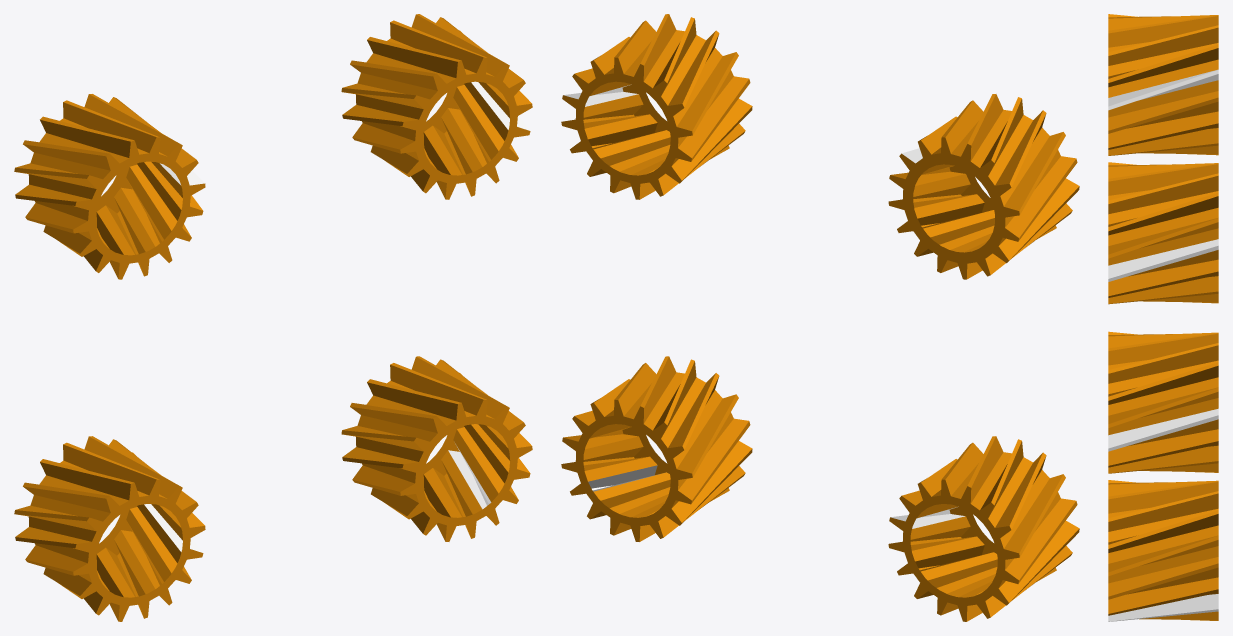
Rendered from 675-planet gears.fbx.
The picture shows the model from 3 angles, left to right: view 1: azimuth 30°, elevation 25°; view 2: azimuth 150°, elevation 25°; view 3: azimuth 270°, elevation 25°; orthographic projection. The views are drawn at different scales.
Parts seen in each view (by area): view 1: 673 planet 4, 673 planet 2, 673 planet 1, 673 planet 3; view 2: 673 planet 4, 673 planet 2, 673 planet 3, 673 planet 1; view 3: 673 planet 4, 673 planet 2, 673 planet 1, 673 planet 3.
Boxes of the visible parts, x1=… form: 673 planet 4: x1=14, y1=94, x2=205, y2=279; 673 planet 2: x1=341, y1=356, x2=532, y2=541; 673 planet 1: x1=341, y1=14, x2=532, y2=199; 673 planet 3: x1=14, y1=436, x2=205, y2=621; 673 planet 4: x1=888, y1=94, x2=1079, y2=279; 673 planet 2: x1=561, y1=356, x2=752, y2=541; 673 planet 3: x1=888, y1=436, x2=1079, y2=621; 673 planet 1: x1=561, y1=14, x2=752, y2=199; 673 planet 4: x1=1108, y1=14, x2=1218, y2=155; 673 planet 2: x1=1108, y1=480, x2=1218, y2=621; 673 planet 1: x1=1108, y1=162, x2=1218, y2=304; 673 planet 3: x1=1108, y1=331, x2=1218, y2=473.
Size of the model in its own units: 894 by 894 by 200.
